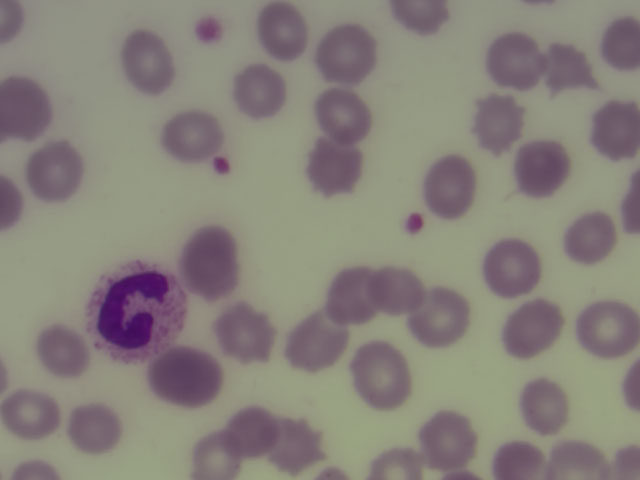Platelets: (192, 16, 226, 45), (400, 208, 432, 237), (207, 153, 236, 179)
RBC: (422, 152, 476, 222), (184, 226, 238, 294), (352, 345, 410, 408), (485, 31, 546, 88), (122, 30, 177, 93), (151, 350, 218, 401), (1, 74, 54, 138), (591, 96, 640, 161), (506, 297, 558, 356), (578, 301, 631, 358), (518, 137, 570, 193), (549, 437, 609, 480), (372, 264, 423, 314), (416, 292, 467, 342), (326, 267, 377, 317), (520, 381, 571, 431), (564, 215, 615, 265), (474, 95, 525, 145), (543, 43, 594, 93), (307, 144, 358, 194), (487, 242, 538, 292), (421, 414, 472, 464), (285, 321, 336, 371), (272, 420, 323, 470), (225, 405, 276, 455), (187, 430, 238, 480), (67, 402, 118, 452), (6, 390, 57, 440), (36, 323, 87, 373), (220, 307, 271, 357), (319, 89, 370, 139), (321, 27, 372, 77), (257, 2, 308, 52), (234, 66, 285, 116), (165, 108, 216, 158), (30, 146, 81, 196), (603, 9, 640, 72), (494, 438, 546, 480), (394, 1, 449, 34), (371, 443, 417, 480), (1, 1, 30, 48)
WBC: (88, 261, 175, 362)
